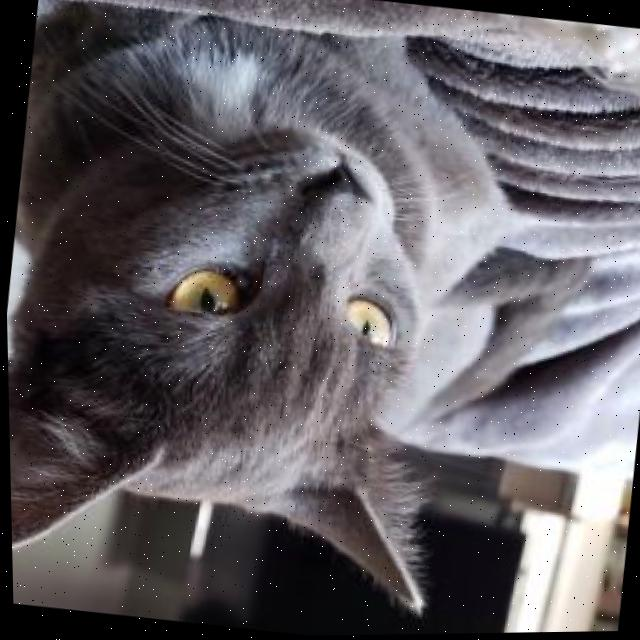Russian Blue: (0, 0, 627, 640)
